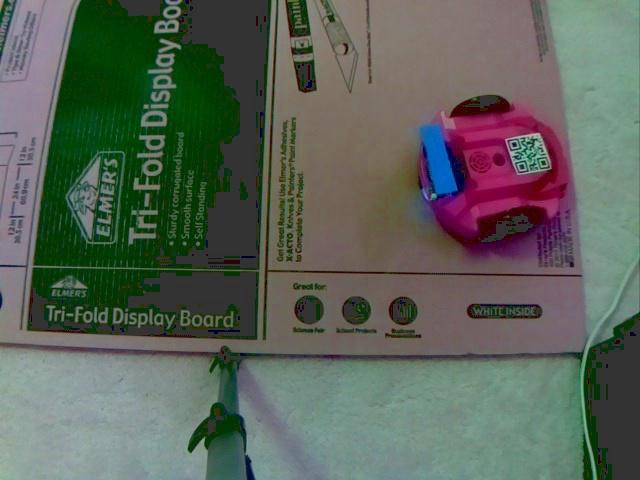board: (410, 118, 474, 198)
chassis: (414, 86, 574, 246)
